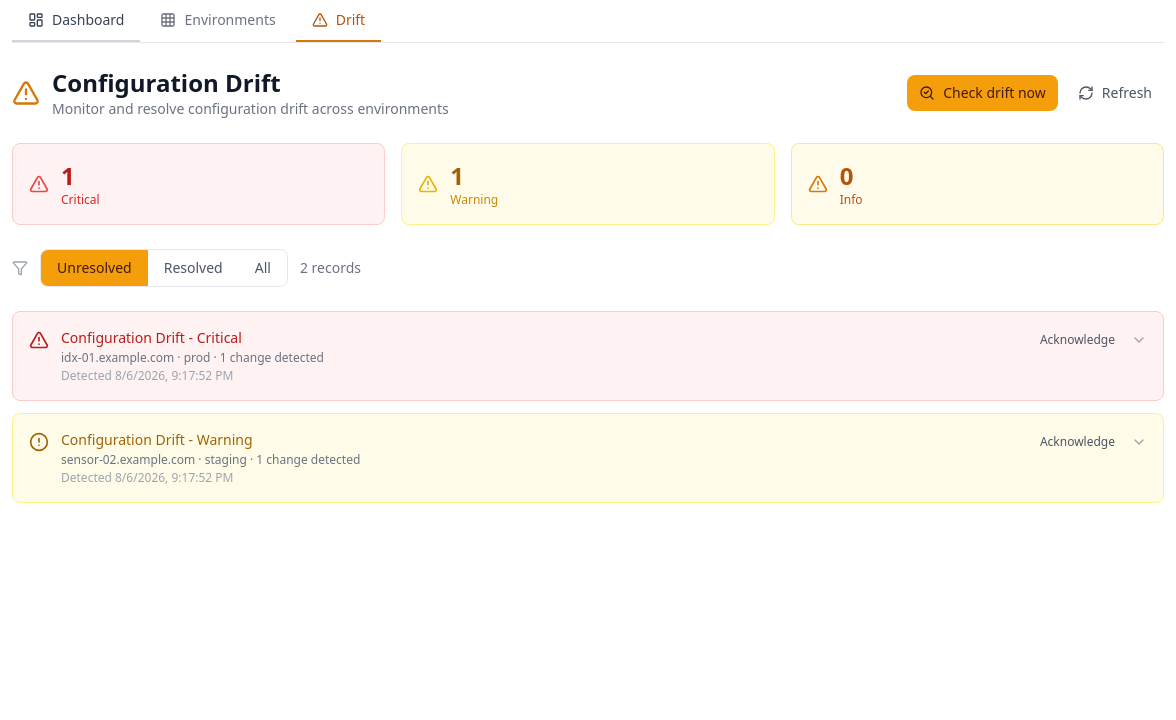
Test: DriftOverview › runs an on-demand drift check and refreshes the list
Check: the text "2 records" is shown, box [300,258,361,278]
Click the button "Check drift now" at (982, 93), box [907,75,1058,111]
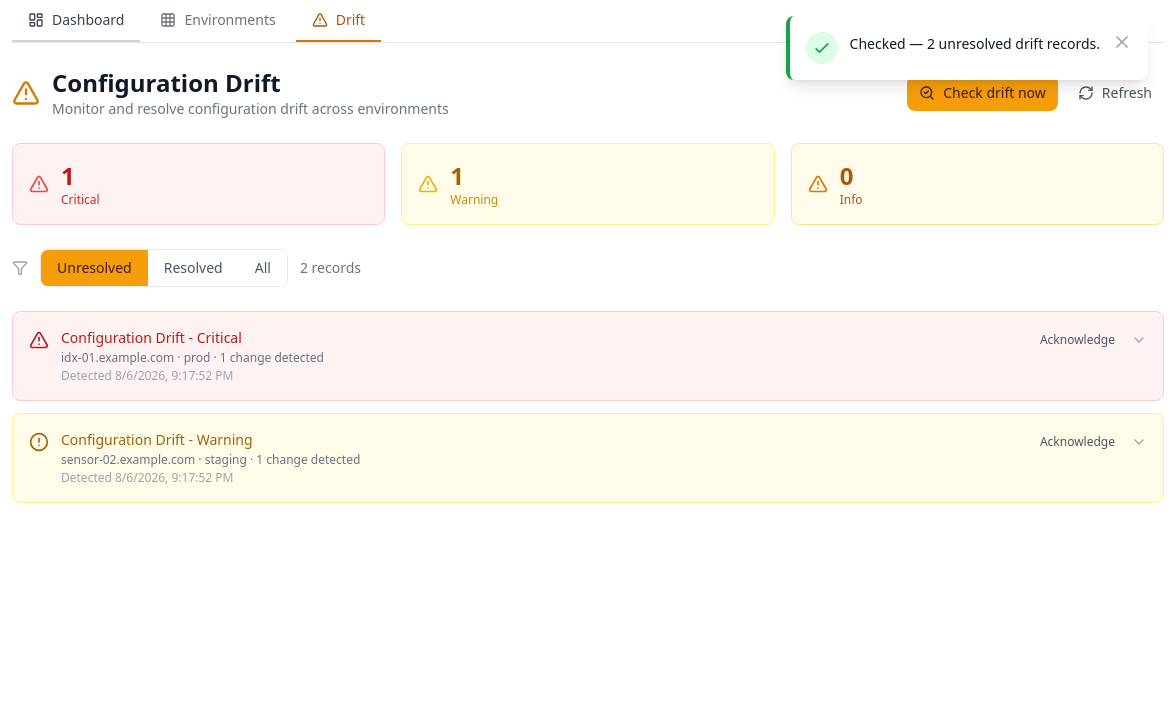
Check: the text "Checked — 2 unresolved drift records." is shown, box [850,34,1100,54]
